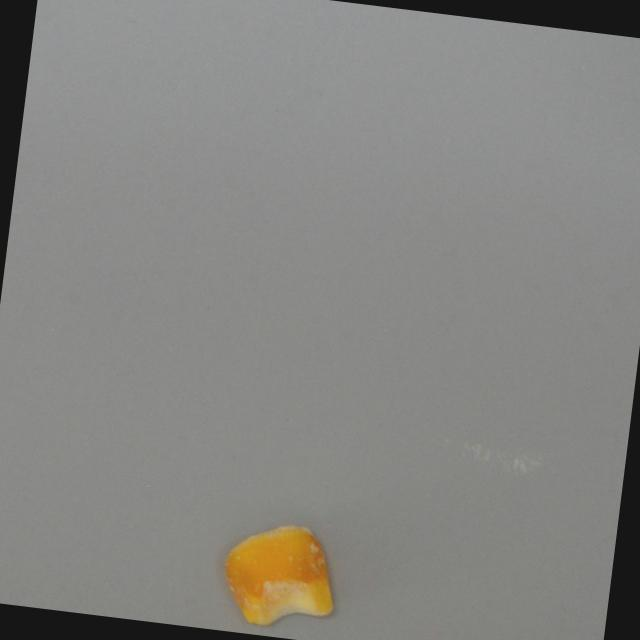dañado: (212, 510, 348, 637)
